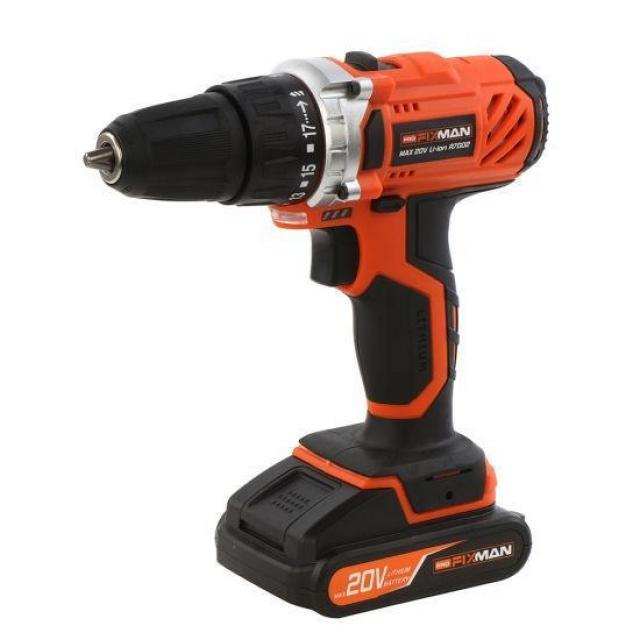drill: (82, 49, 550, 621)
